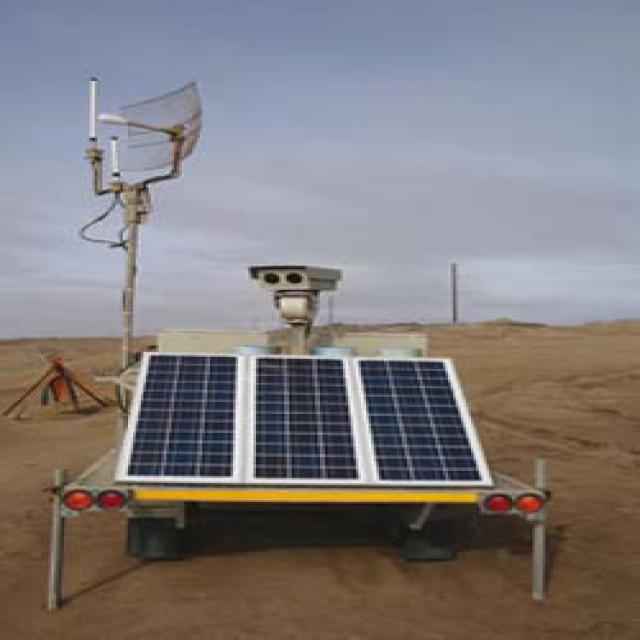no faulty: (360, 359, 493, 486), (120, 351, 243, 482), (251, 357, 367, 483)
